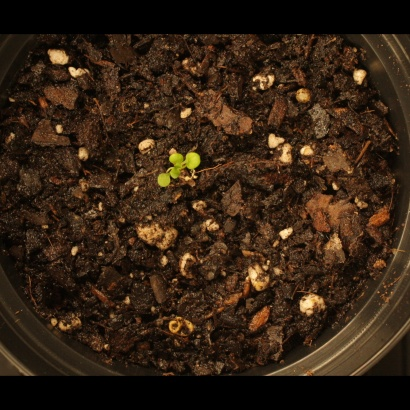leaf: (183, 148, 206, 171), (146, 171, 169, 194), (163, 170, 186, 193), (163, 145, 186, 168)
